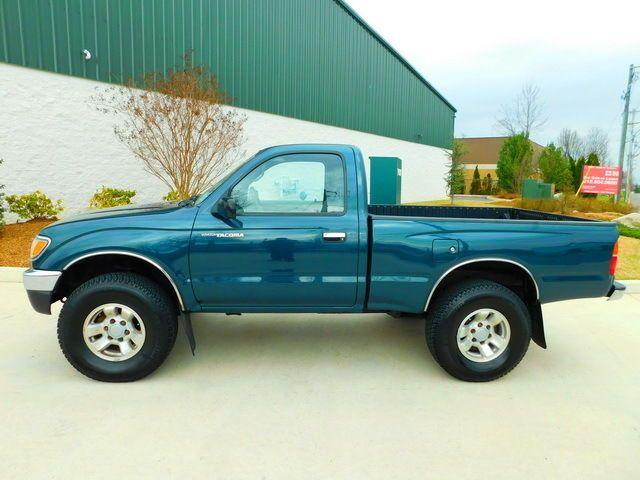pickup-truck: (21, 144, 624, 386)
